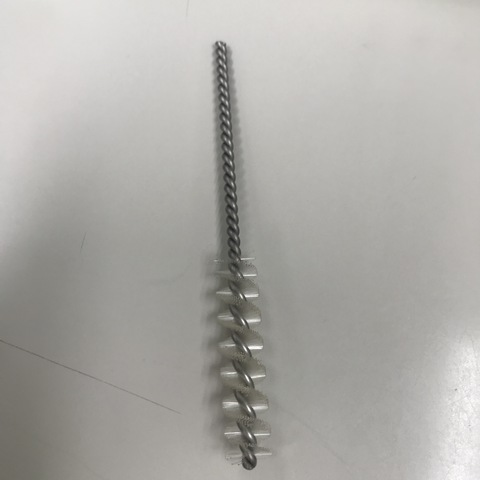Twist Brush-B: (198, 37, 274, 475)
